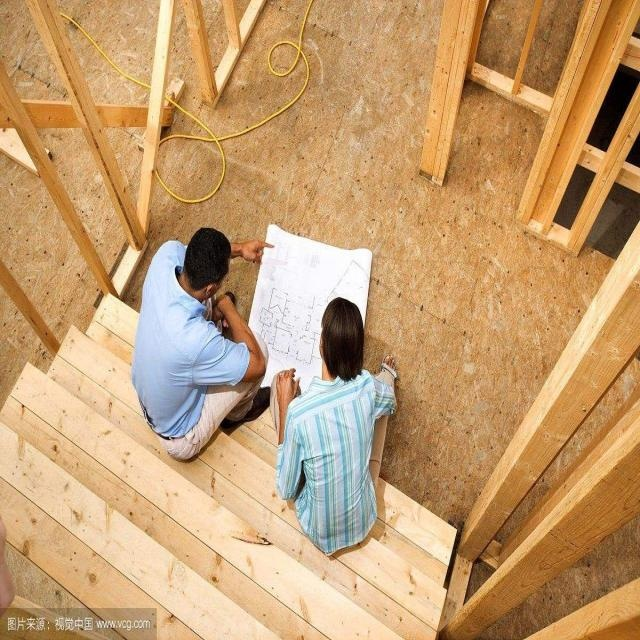Sin_Casco_Mascarrilla: (309, 301, 368, 378), (182, 225, 234, 295)
